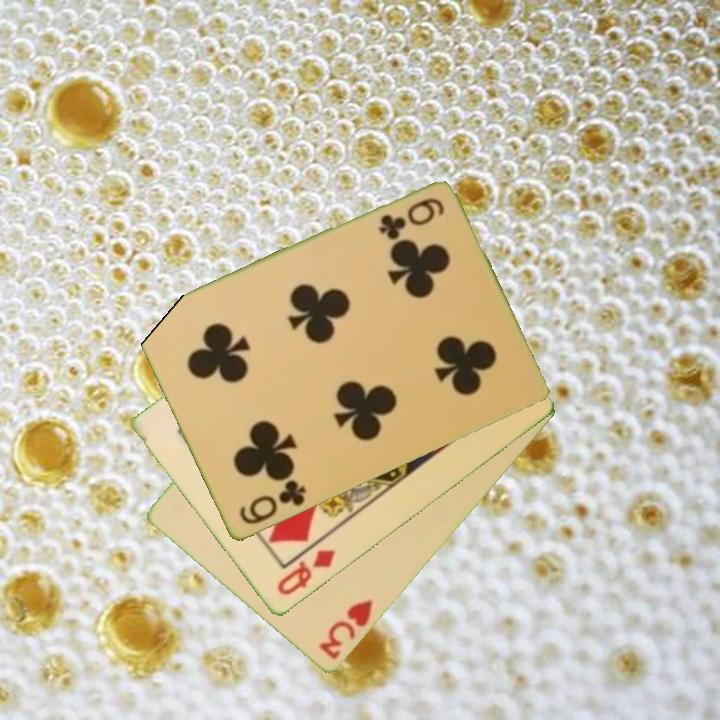3h: (315, 595, 376, 663)
6c: (235, 476, 309, 528), (375, 194, 448, 242)
Qd: (273, 546, 338, 599)
